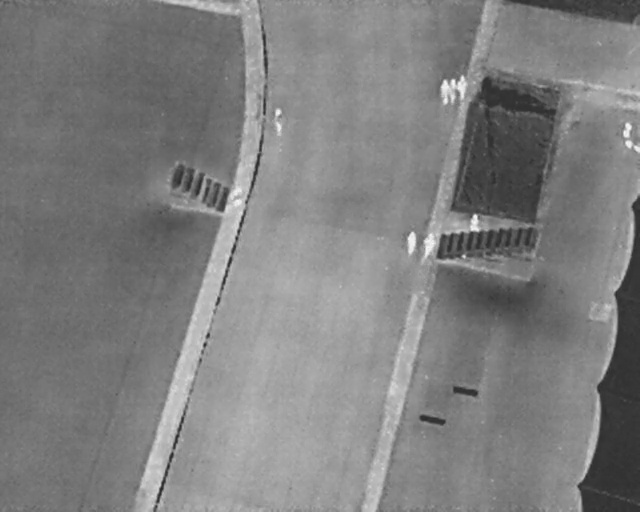Person: (420, 231, 437, 259), (272, 105, 285, 137), (405, 228, 418, 257), (458, 74, 467, 99), (234, 185, 244, 207), (449, 77, 457, 104), (441, 79, 448, 105), (471, 213, 480, 229)
